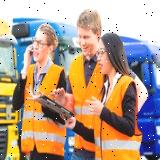Vest: (94, 73, 143, 160), (20, 63, 65, 157), (67, 52, 107, 154)
